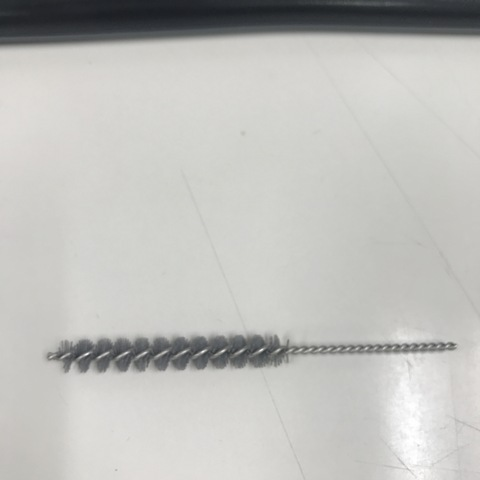Twist Brush-A: (46, 334, 461, 372)
